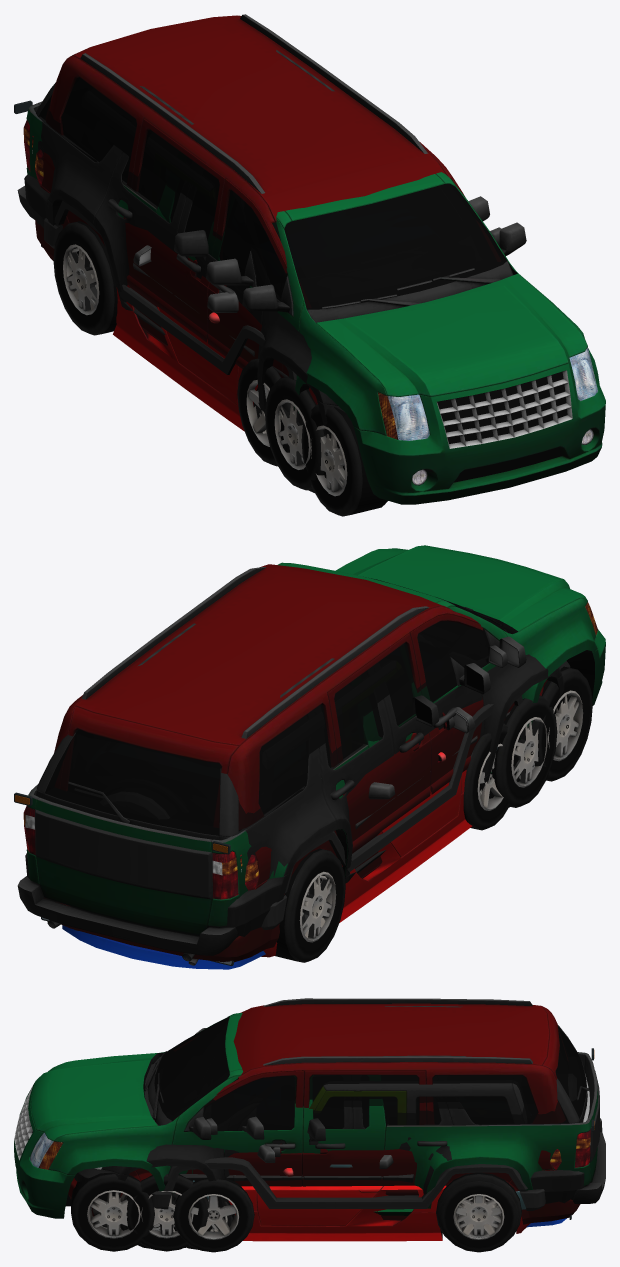
Rendered from passenger.glb.
3 renders of one model, top to bottom at view 1: azimuth 30°, elevation 25°; view 2: azimuth 150°, elevation 25°; view 3: azimuth 270°, elevation 25°, orthographic. The views are drawn at different scales.
Parts seen in each view (by area): view 1: pickup_part_12, minivan_part_12, pickup_part_13, suv_part_13, minivan_part_13, sport_part_18, suv_part_14, suv_part_126, pickup_part_77, offroad_part_11, suv_part_104, pickup_part_14 (+6 smaller); view 2: minivan_part_12, pickup_part_12, suv_part_13, minivan_part_13, suv_part_14, sport_part_18, offroad_part_11, suv_part_126, suv_part_104, pickup_part_77, pickup_part_13, coupe_part_10 (+6 smaller); view 3: pickup_part_12, minivan_part_12, suv_part_13, sport_part_18, pickup_part_13, offroad_part_11, suv_part_14, minivan_part_13, pickup_part_82, offroad_part_12, offroad_part_72, offroad_part_82 (+10 smaller).
Part boxes in pixels (x1,y1,x2,y2): pickup_part_12: (17, 101, 605, 504); minivan_part_12: (35, 14, 501, 404); pickup_part_13: (170, 183, 507, 309); suv_part_13: (24, 50, 489, 448); minivan_part_13: (62, 77, 470, 256); sport_part_18: (113, 285, 258, 431); suv_part_14: (38, 95, 246, 276); suv_part_126: (53, 221, 115, 335); pickup_part_77: (301, 404, 387, 516); offroad_part_11: (44, 201, 303, 423); suv_part_104: (265, 376, 326, 490); pickup_part_14: (23, 120, 597, 485); minivan_part_12: (44, 564, 547, 965); pickup_part_12: (17, 545, 605, 961); suv_part_13: (25, 623, 570, 942); minivan_part_13: (68, 621, 471, 825); suv_part_14: (45, 658, 457, 835); sport_part_18: (261, 752, 472, 957); offroad_part_11: (100, 695, 534, 929); suv_part_126: (275, 848, 345, 962); suv_part_104: (492, 695, 557, 807); pickup_part_77: (534, 666, 592, 781); pickup_part_13: (371, 578, 506, 737); coupe_part_10: (62, 782, 395, 969); pickup_part_12: (14, 1013, 605, 1218); minivan_part_12: (68, 998, 580, 1224); suv_part_13: (74, 1006, 589, 1219); sport_part_18: (228, 1168, 530, 1241); pickup_part_13: (154, 1016, 368, 1131); offroad_part_11: (153, 1074, 576, 1210); suv_part_14: (286, 1026, 586, 1129); minivan_part_13: (212, 1030, 569, 1124); pickup_part_82: (71, 1173, 154, 1251); offroad_part_12: (150, 1083, 545, 1210); offroad_part_72: (173, 1177, 254, 1252); offroad_part_82: (439, 1181, 518, 1252).
Bounding box in the file's own units: 2.07 × 1.76 × 5.18.
Materials: 49 (38 with a texture image).
